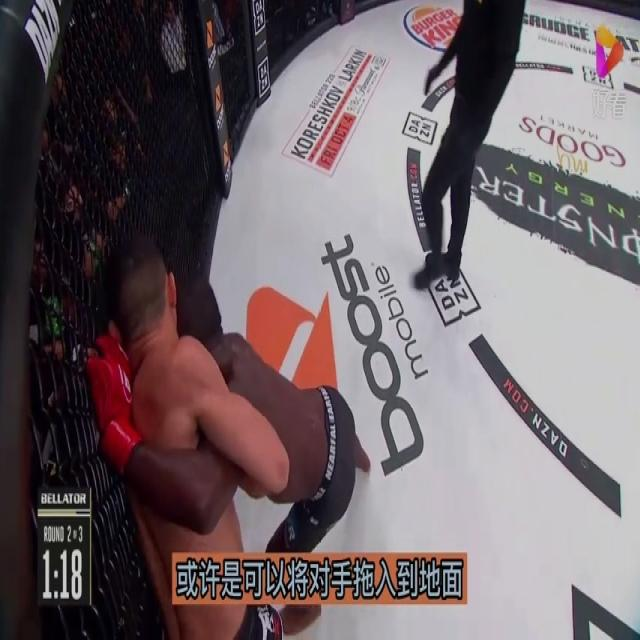fight: (82, 241, 374, 640)
non-fight: (406, 0, 531, 297)
